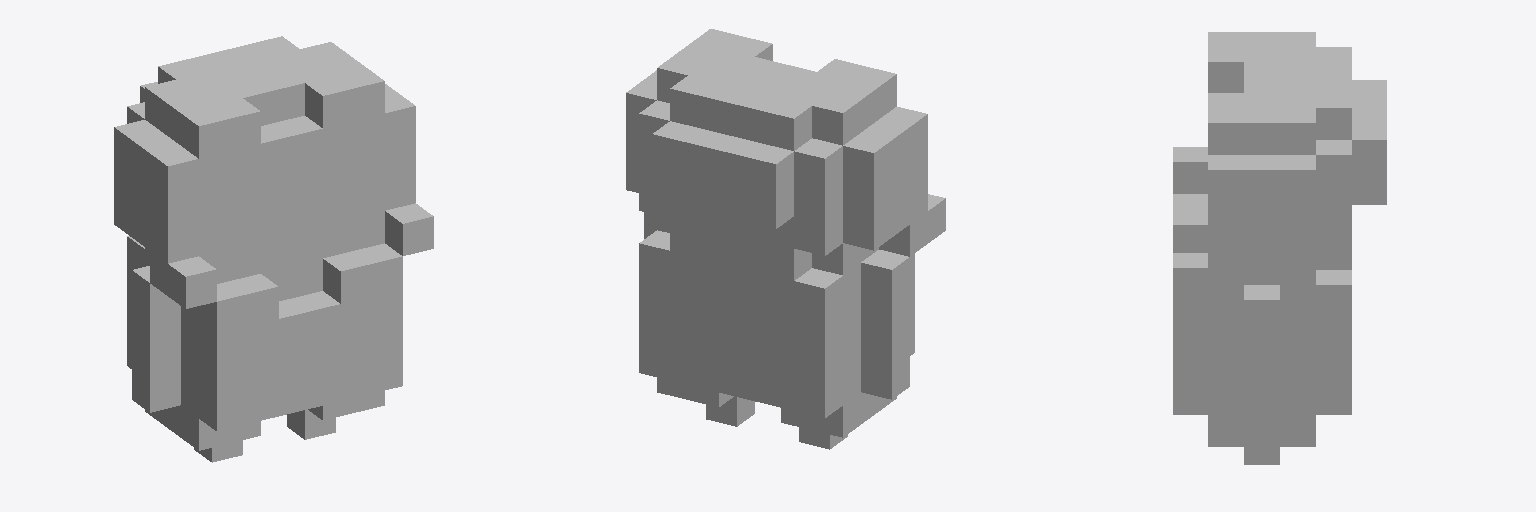
Rendered from chr_lady1.obj.
The picture shows the model from 3 angles: view 1: azimuth 30°, elevation 25°; view 2: azimuth 150°, elevation 25°; view 3: azimuth 270°, elevation 25°; orthographic projection.
Parts seen in each view (by area): view 1: object 1; view 2: object 1; view 3: object 1.
Boxes of the visible parts, x1=… form: object 1: x1=114, y1=36, x2=433, y2=462; object 1: x1=626, y1=29, x2=945, y2=449; object 1: x1=1173, y1=32, x2=1386, y2=464.
Bounding box in the file's own units: 0.8 × 1.1 × 0.6.